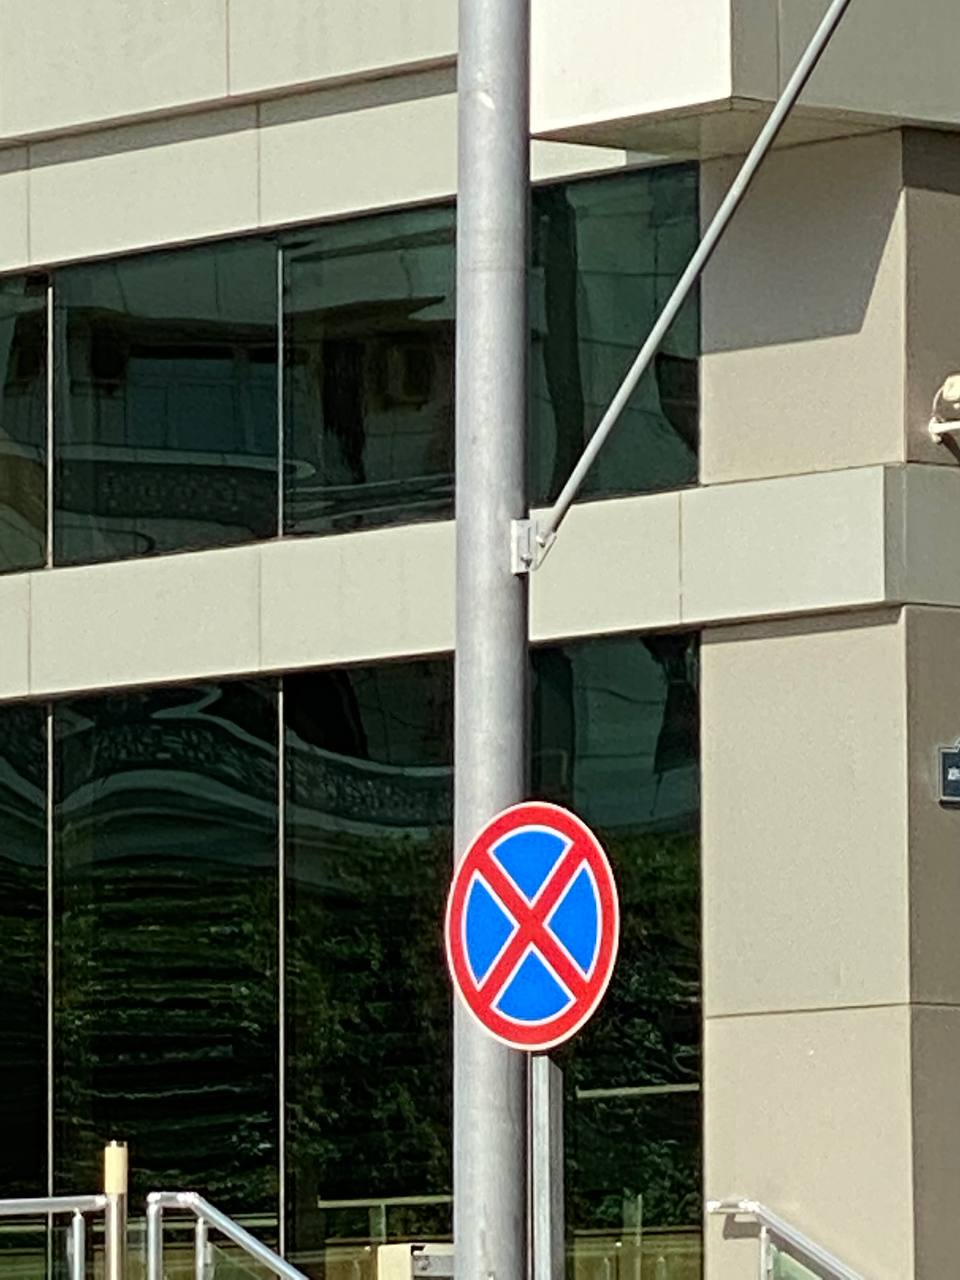No Parking: (443, 802, 620, 1050)
